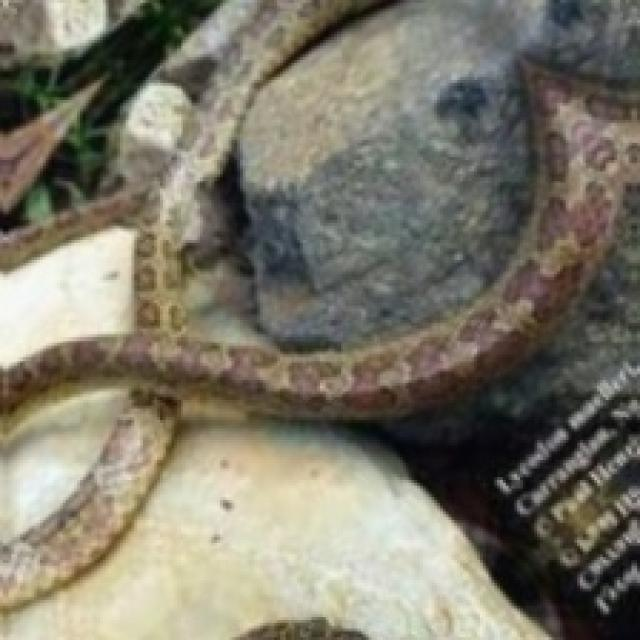mullers wolf snake: (126, 0, 637, 414), (3, 423, 537, 637), (497, 403, 637, 637)
